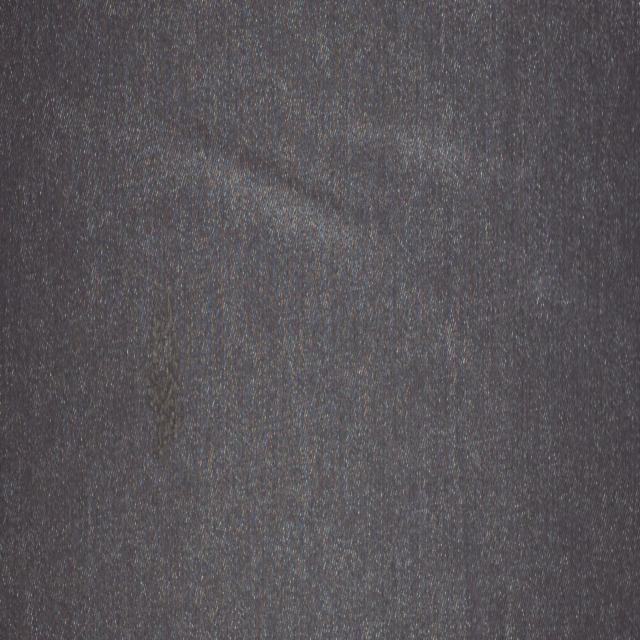Stain: (141, 271, 180, 460)
